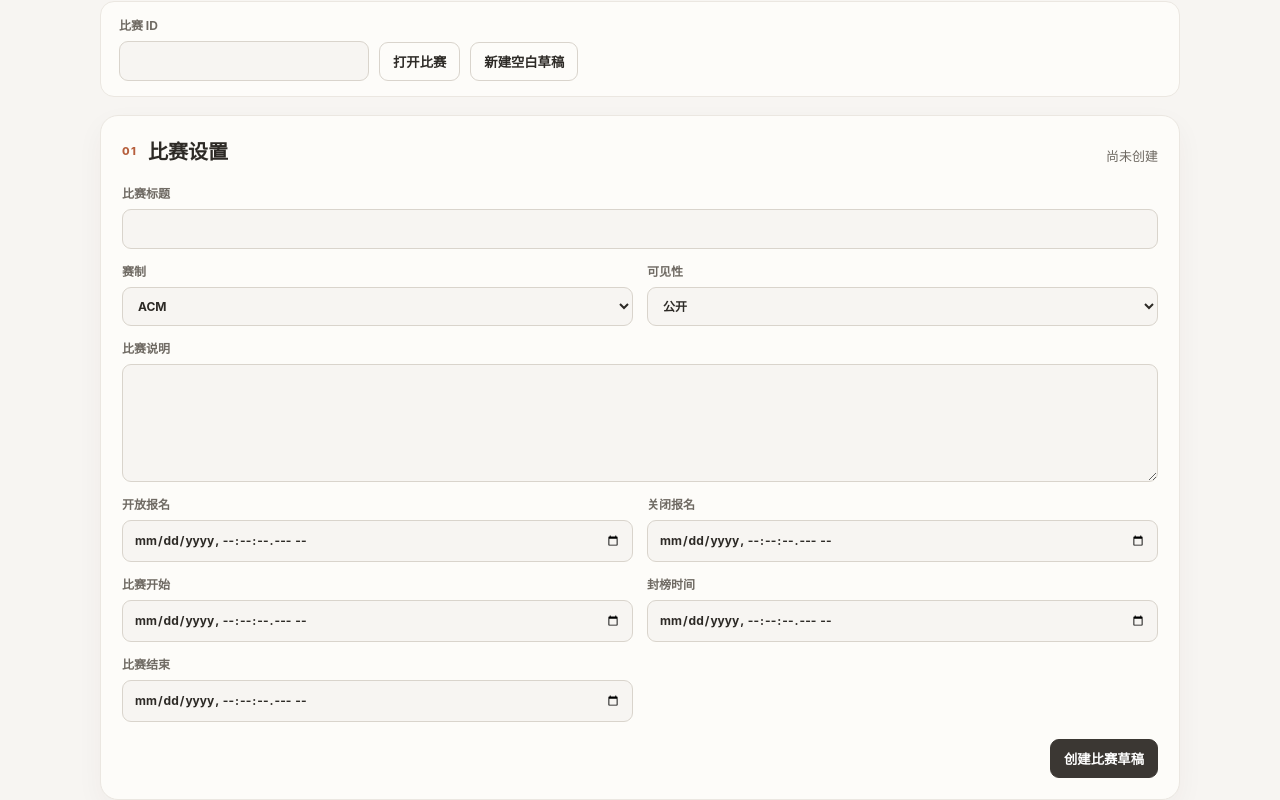
Test: ContestManagement › locks roster edits until an in-flight server save completes
This screenshot has width=1280, height=800.
(page scrolled)
Type "12" into the field labelled "比赛 ID" at (244, 61), box [119, 41, 369, 81]
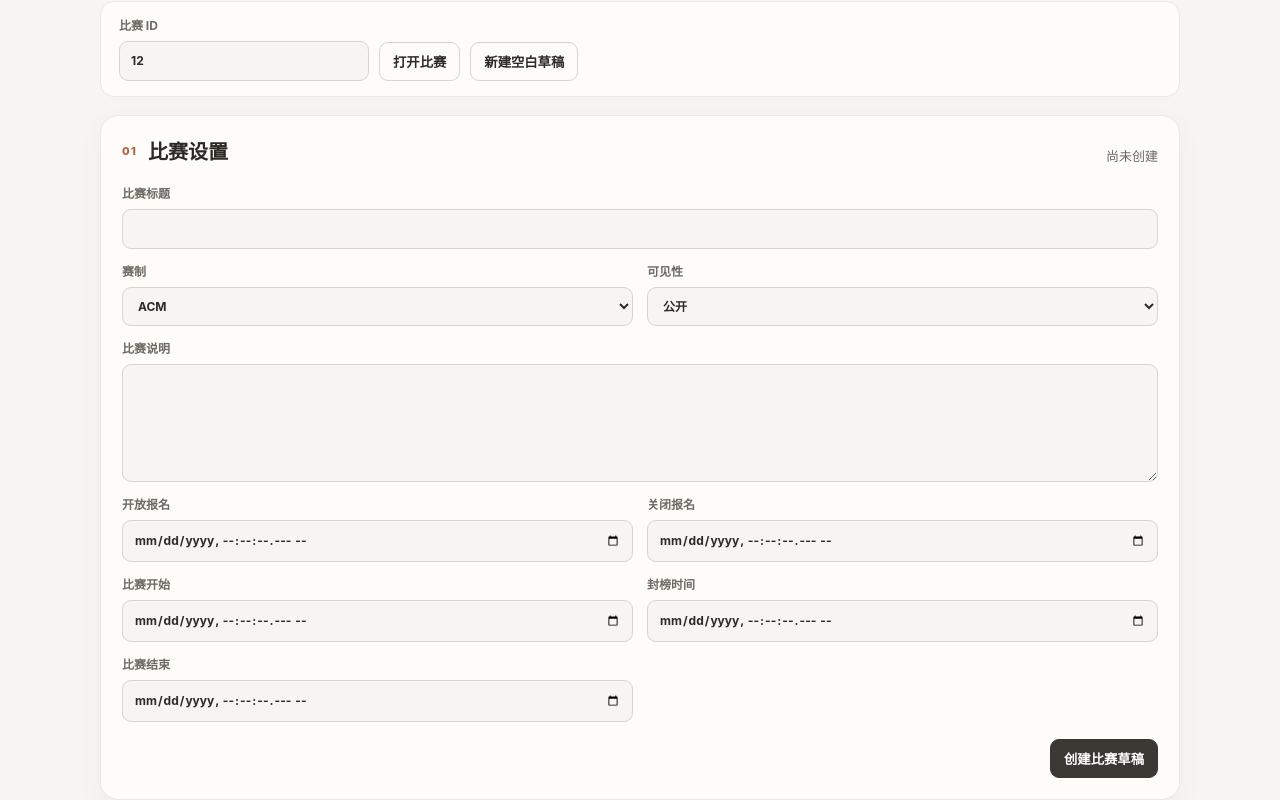
Click the button "打开比赛" at (420, 61), box [379, 42, 460, 81]
(page scrolled)
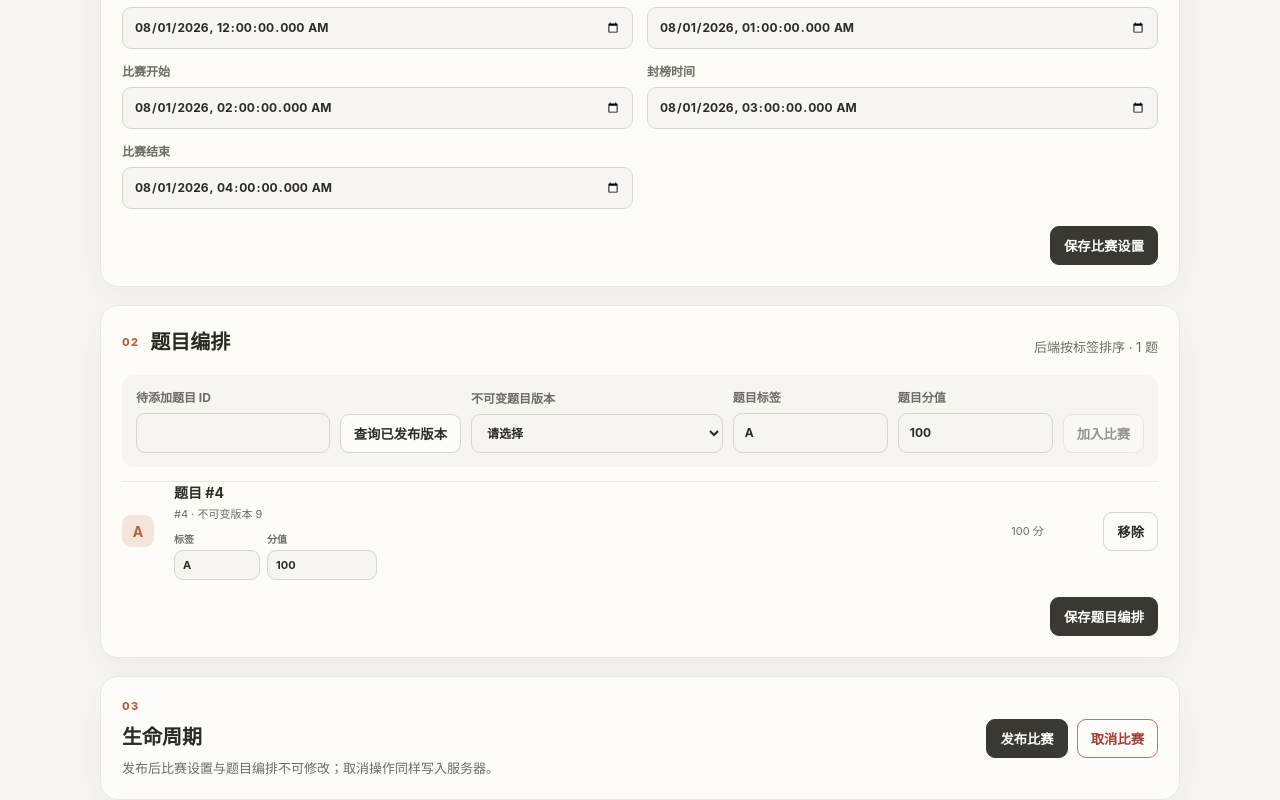
Click the button "保存题目编排" at (1104, 617), box [1050, 597, 1158, 636]
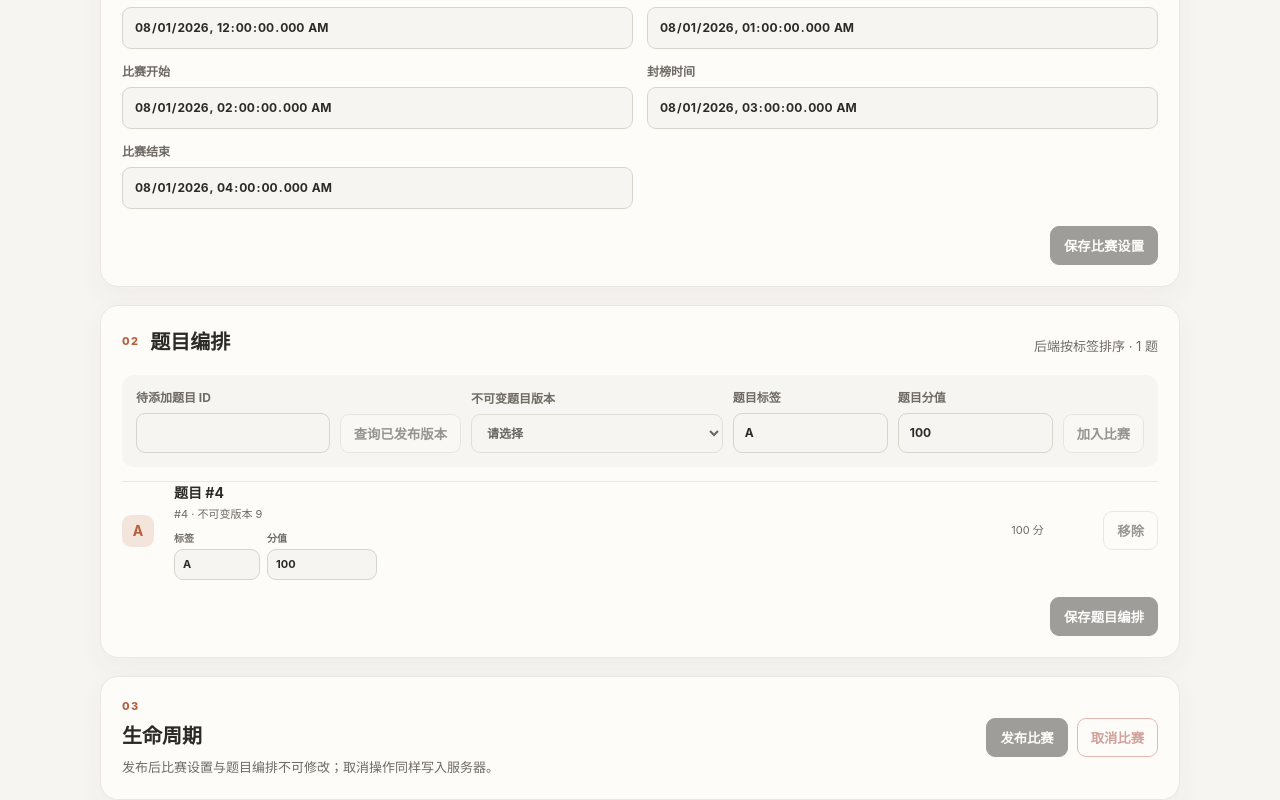
Now the button with aria-label "移除题目 A" is disabled
Click the button with aria-label "移除题目 A" at (1131, 531), box [1103, 511, 1158, 550]
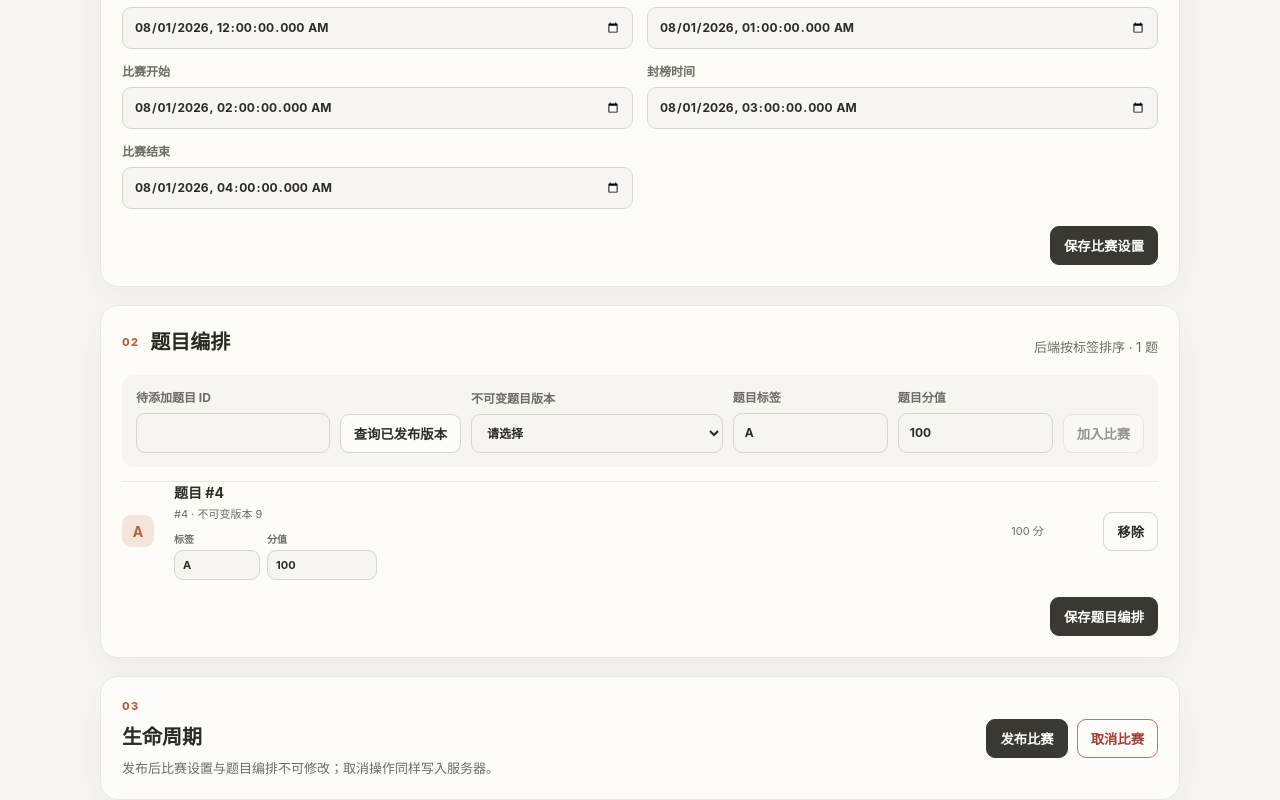
Now the element with test id "contest-problem-row-4" is shown, box [122, 481, 1158, 580]
Now the button with aria-label "移除题目 A" is enabled, box [1103, 512, 1158, 551]
